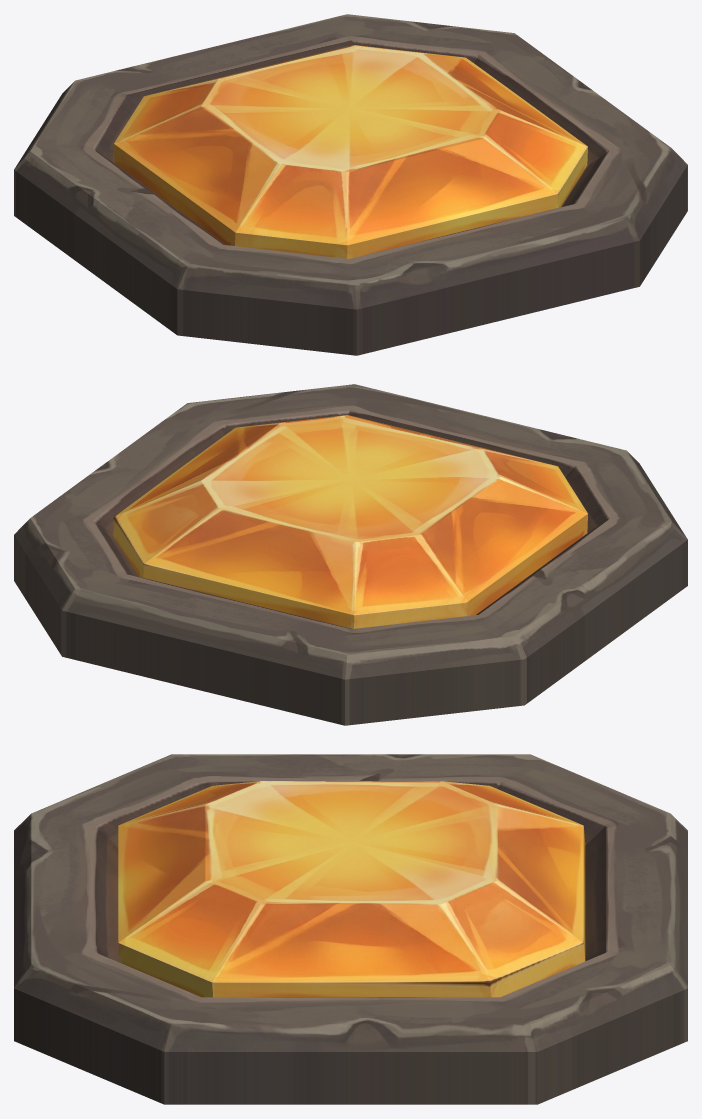
The model's file is pressurePlate01.glb.
3 views of the same model, one above another, from view 1: azimuth 30°, elevation 25°; view 2: azimuth 150°, elevation 25°; view 3: azimuth 270°, elevation 25° (orthographic). The views are drawn at different scales.
Parts seen in each view (by area): view 1: PressurePlate01; view 2: PressurePlate01; view 3: PressurePlate01.
Boxes of the visible parts, left/top/right/bottom form: PressurePlate01: left=14, top=14, right=687, bottom=355; PressurePlate01: left=14, top=384, right=687, bottom=725; PressurePlate01: left=14, top=754, right=687, bottom=1104.
Size of the model in its own units: 2.3 by 0.4504 by 2.3.
1 material, 1 textured.
